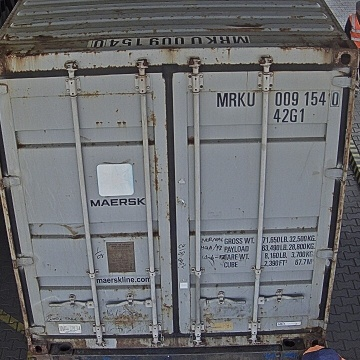serial_id: (217, 90, 340, 106)
